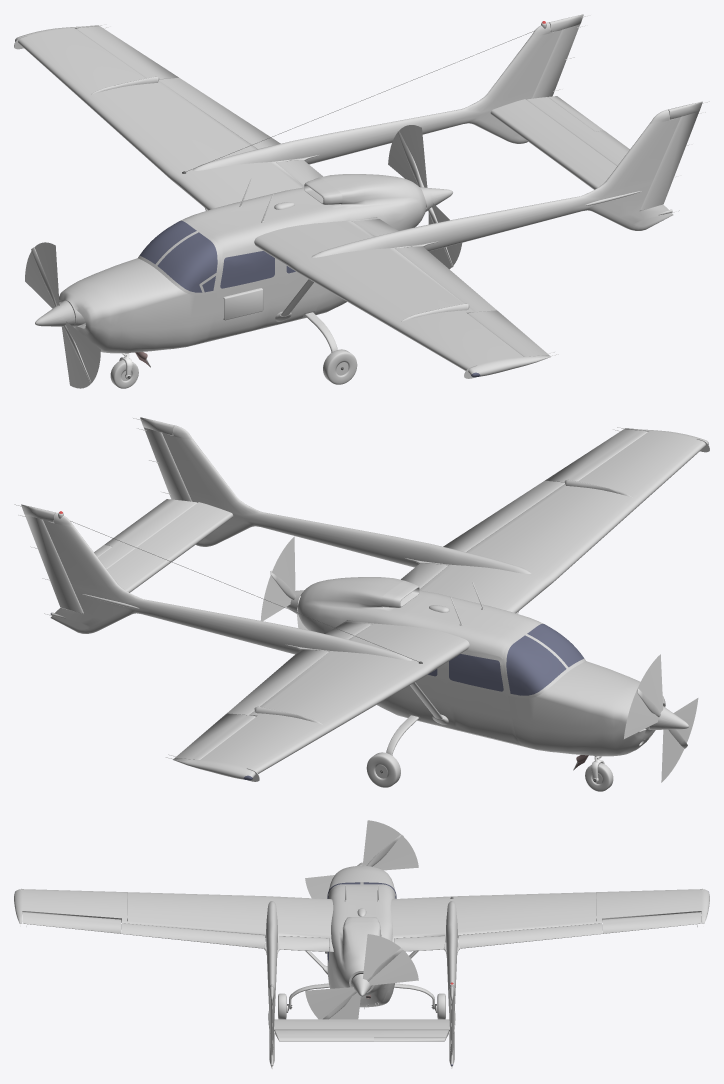
The model's file is Cessna337_Cessna337_SkymasterEC-ISD.glb.
3 views of the same model, one above another, from view 1: azimuth 30°, elevation 25°; view 2: azimuth 150°, elevation 25°; view 3: azimuth 270°, elevation 25° (orthographic). The views are drawn at different scales.
Parts seen in each view (by area): view 1: airframe; view 2: airframe; view 3: airframe.
Part boxes in pixels (x1,y1,x2,y2): airframe: (14, 14, 709, 388); airframe: (14, 417, 709, 791); airframe: (14, 820, 709, 1069).
Bounding box in the file's own units: 9.09 × 2.9 × 11.77.
